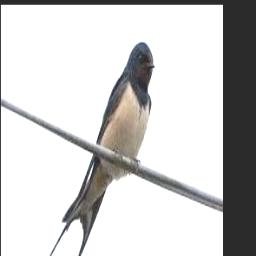Swallow: (35, 41, 155, 256)
